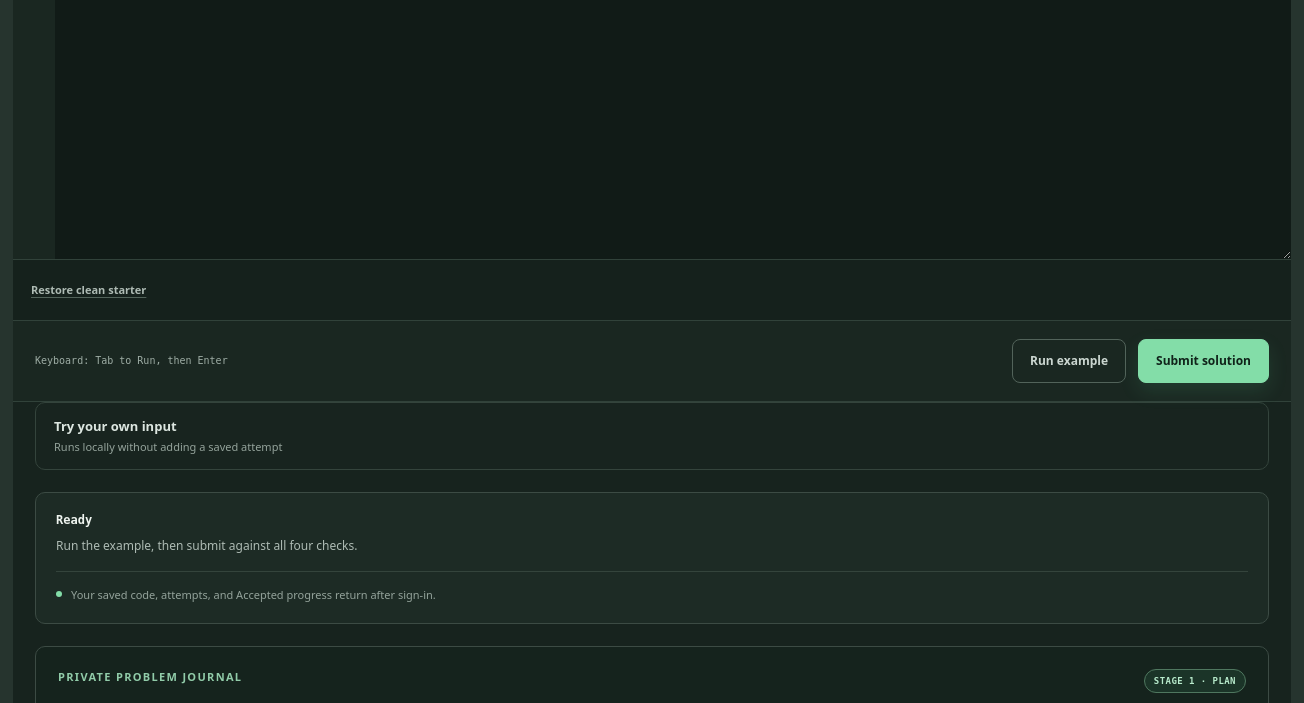
CodingWorkspace › sends the current daily context and confirms only the saved Accepted result
The image size is (1304, 703).
(page scrolled)
Click the button "Submit solution".
click(1204, 361)  # box [1138,339,1269,383]
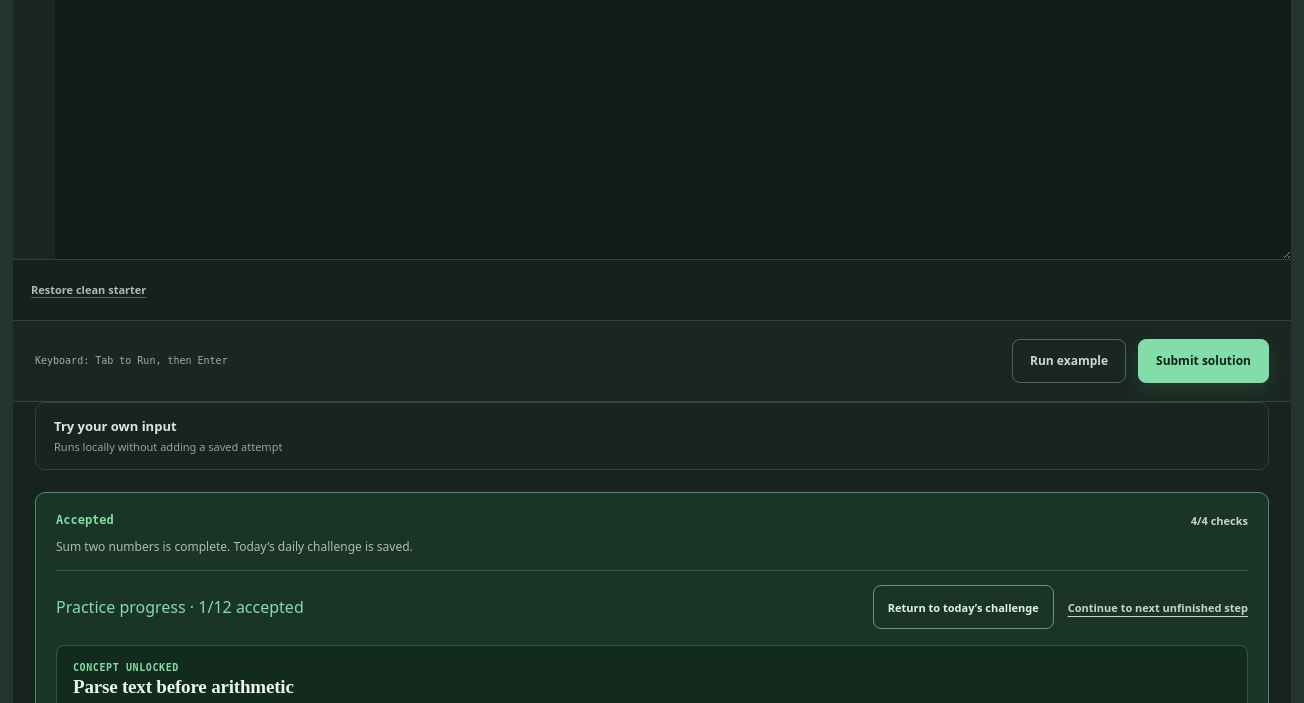
Check: the text "Sum two numbers is complete. Today’s daily challenge is saved." is shown, box [56,538,413,555]
